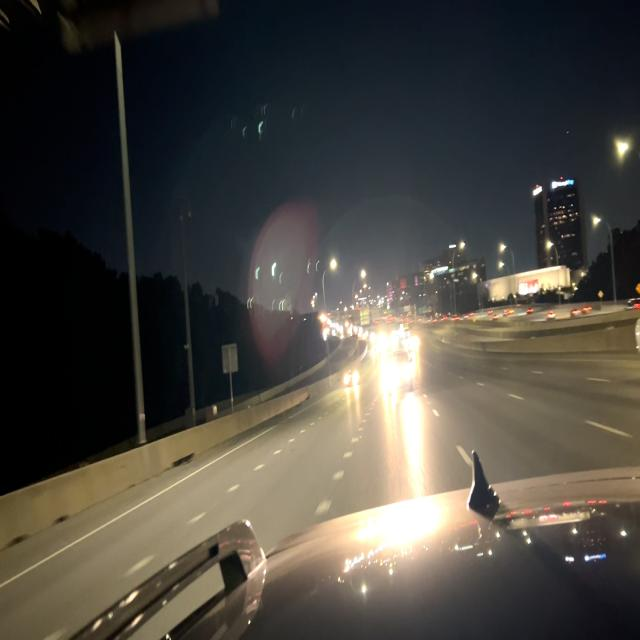back-of-sign: (221, 340, 239, 377)
